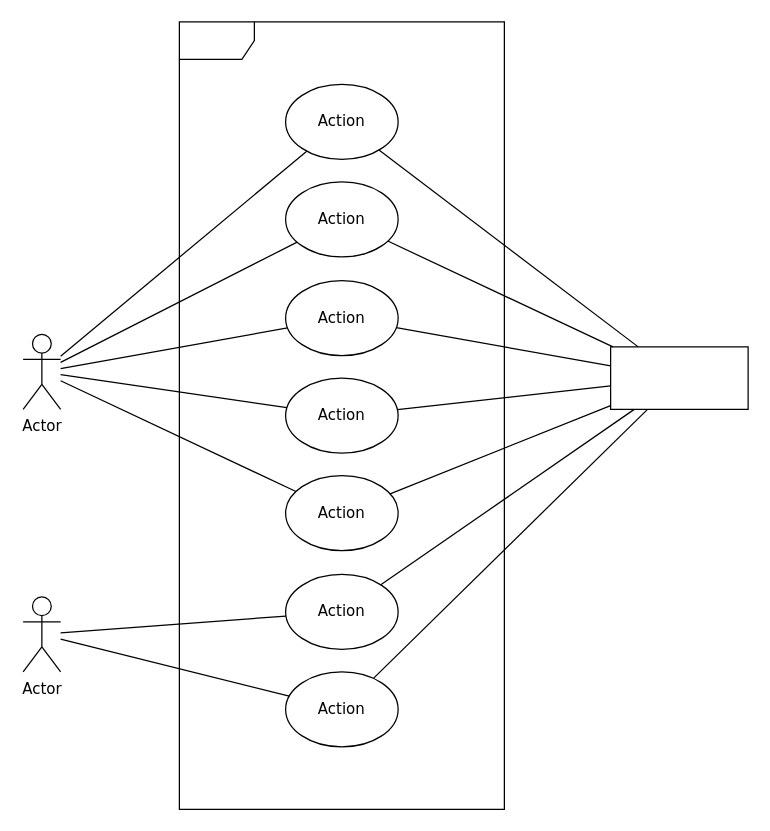
Image size: 770x831. Some labels were removed from this diagram. The box of each missing label's shape, as (x1, y1, x2, y2) in pixels:
frame: (178, 21, 504, 809)
Object: (609, 346, 748, 409)
